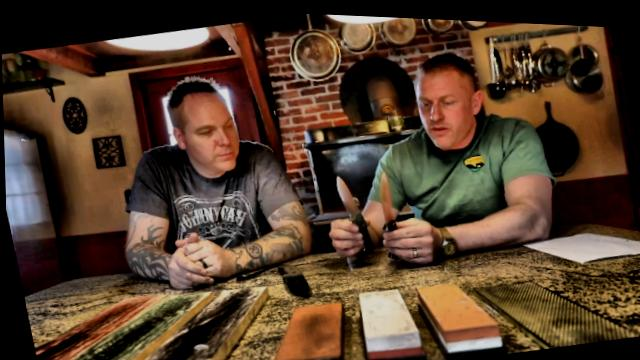knife: (364, 155, 436, 247), (315, 164, 373, 244)
